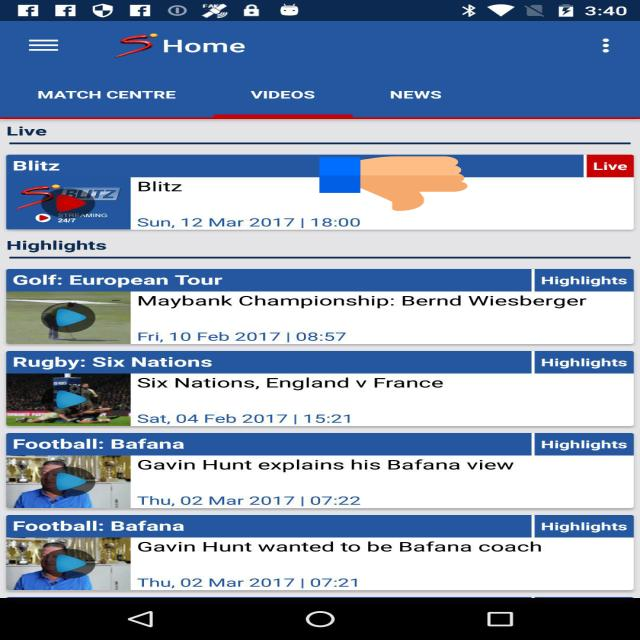obstruction: (320, 155, 468, 212)
